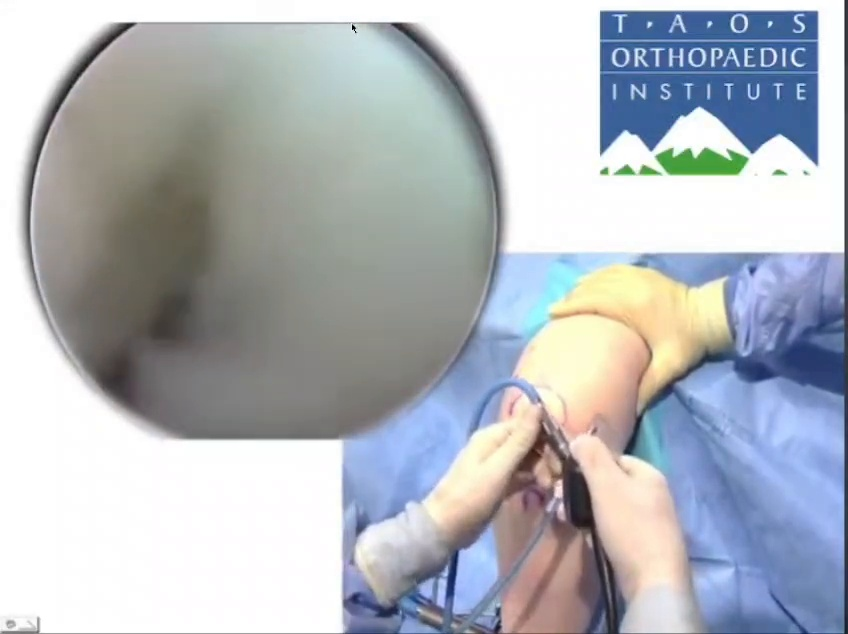probe: (756, 385, 848, 634), (188, 379, 424, 462)
